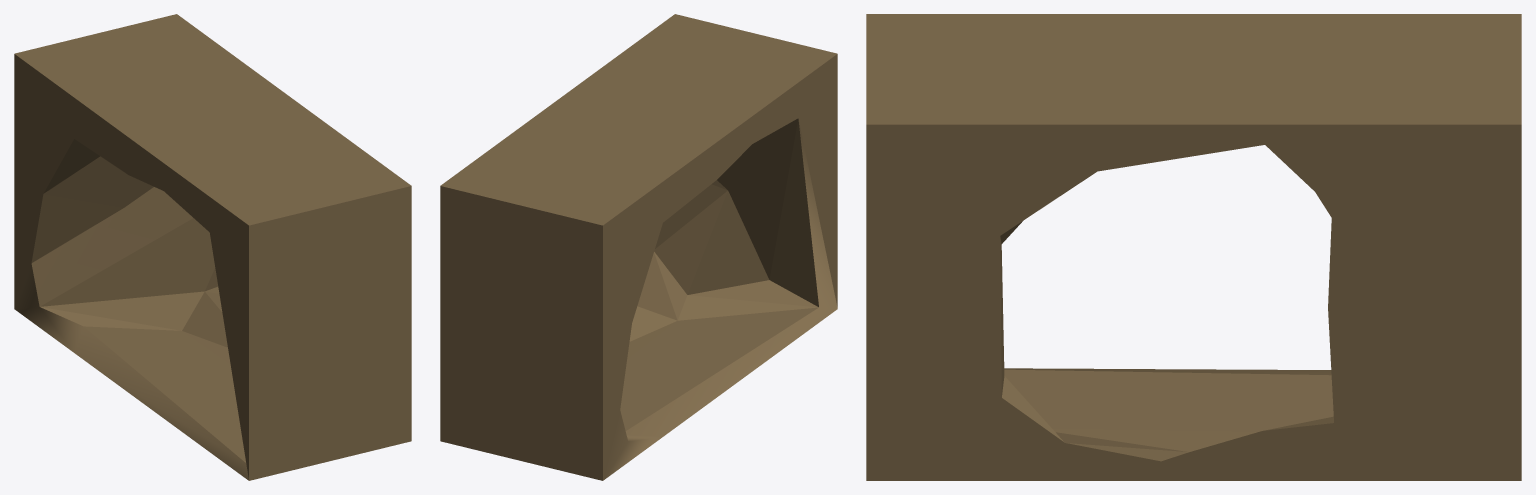
Rendered from LightRockWallMediumCaveEntrancewBars1.fbx.
The picture shows the model from 3 angles, left to right: view 1: azimuth 30°, elevation 25°; view 2: azimuth 150°, elevation 25°; view 3: azimuth 270°, elevation 25°; orthographic projection. The views are drawn at different scales.
Parts seen in each view (by area): view 1: LightRockWallMediumCaveEntrancewBars1; view 2: LightRockWallMediumCaveEntrancewBars1; view 3: LightRockWallMediumCaveEntrancewBars1.
Part boxes in pixels (box(x1,y1,x2,y2)): LightRockWallMediumCaveEntrancewBars1: box(14, 14, 411, 480); LightRockWallMediumCaveEntrancewBars1: box(440, 14, 837, 480); LightRockWallMediumCaveEntrancewBars1: box(866, 14, 1521, 480).
Size of the model in its own units: 200 by 300 by 500.
